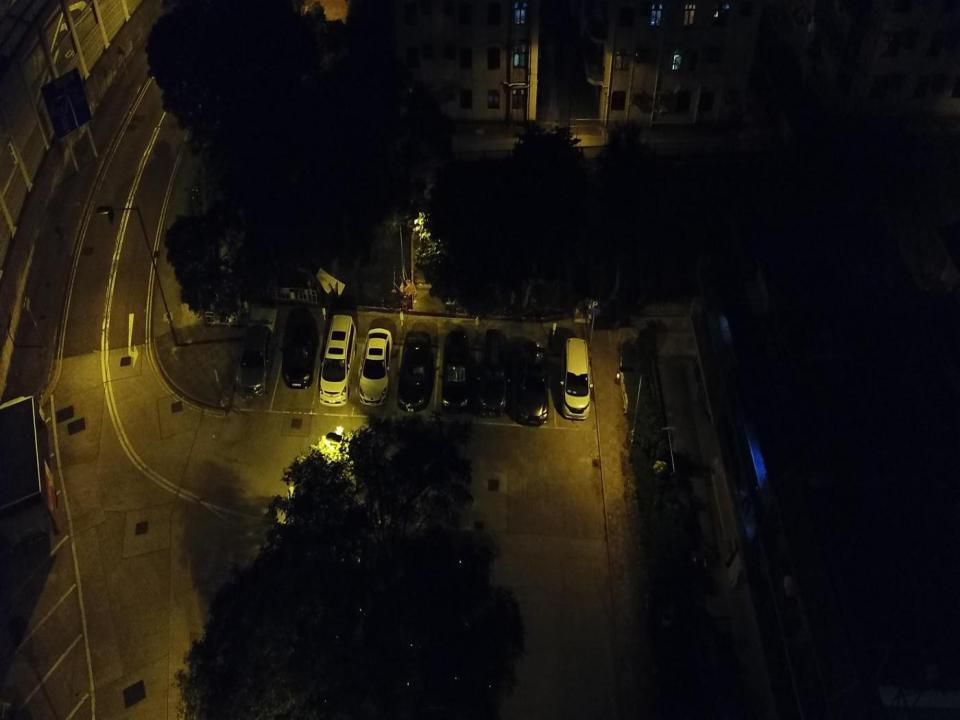car: (319, 312, 358, 406), (279, 306, 320, 388), (396, 330, 436, 413), (475, 328, 510, 418), (517, 338, 551, 426), (237, 324, 275, 400), (560, 336, 594, 420), (438, 330, 473, 410), (358, 327, 392, 407)
